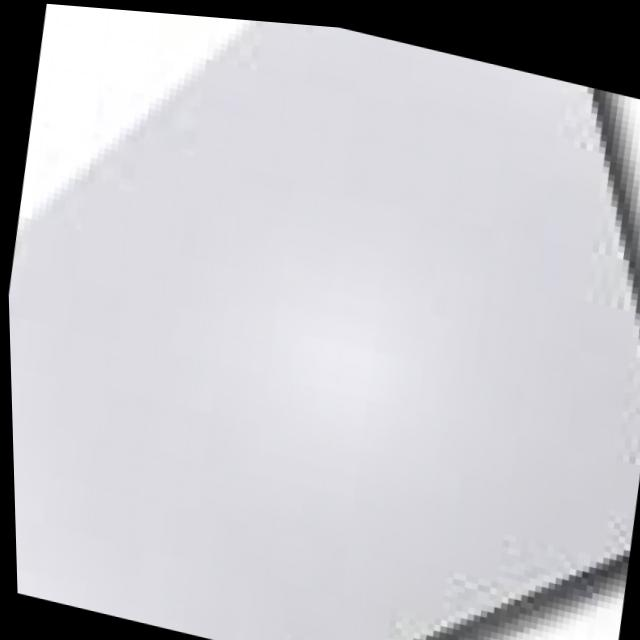metal-plates: (8, 17, 640, 640)
